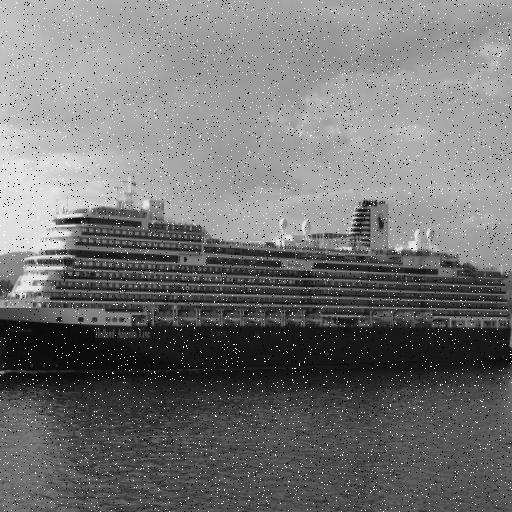cruises: (1, 175, 512, 384)
